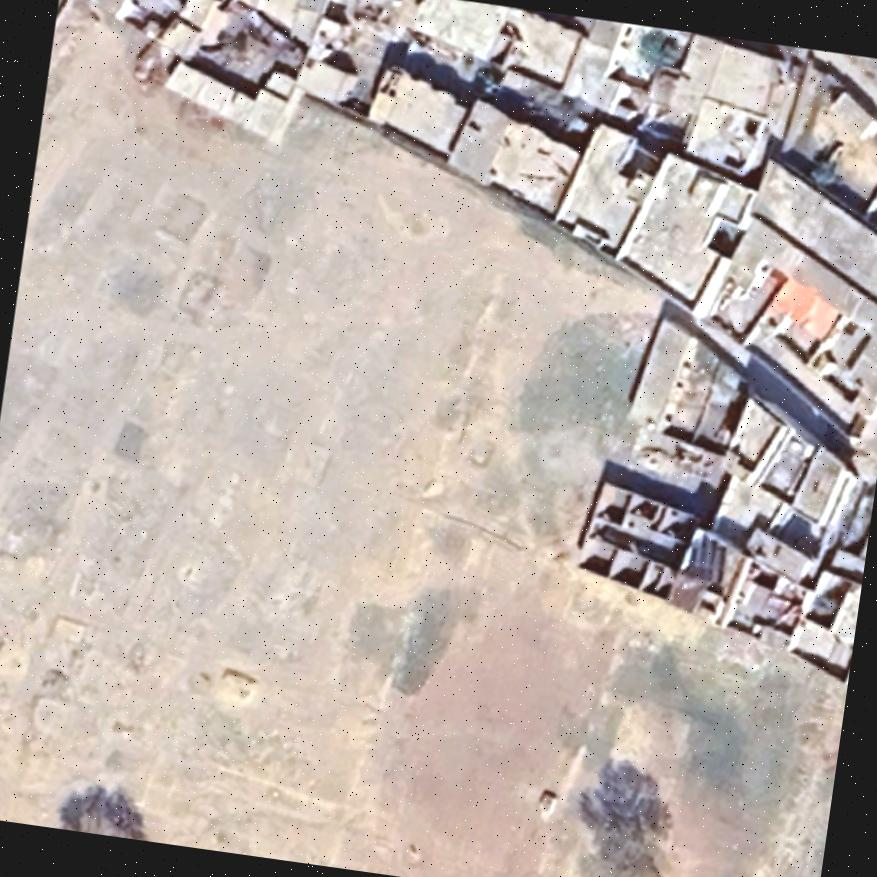Solarpanel: (682, 534, 730, 586)
